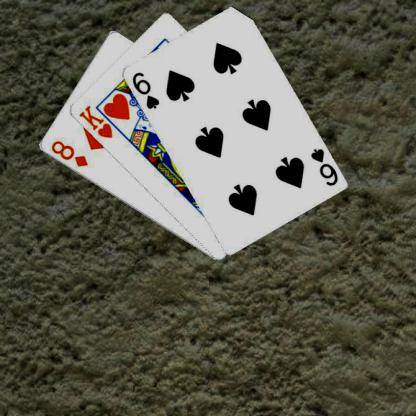6S: (307, 146, 339, 188), (129, 69, 160, 110)
8D: (48, 138, 89, 168)
KH: (76, 102, 113, 140)
